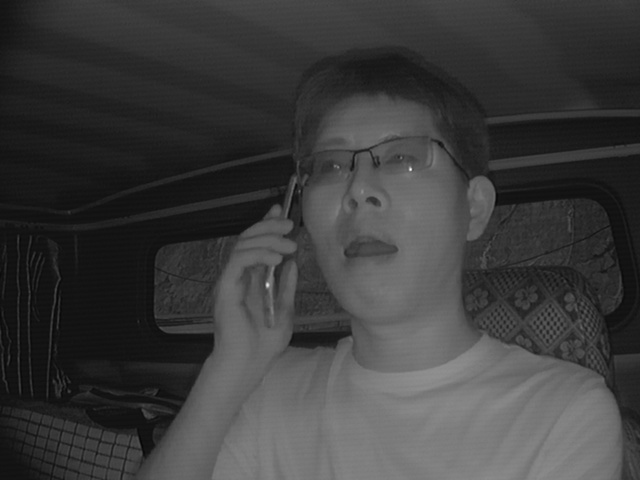hand: (214, 206, 314, 344)
